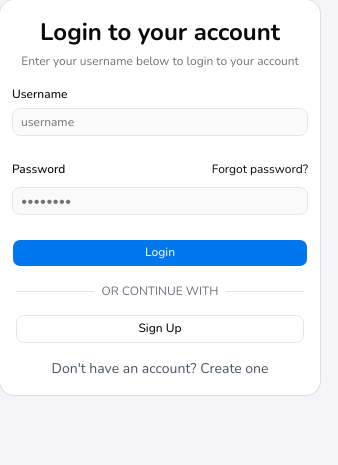
Test: LoginPage › rejects a successful response that carries no token
Type "admin01" into the field labelled "Username".
click(160, 122); type("admin01")  # box [12,108,308,136]
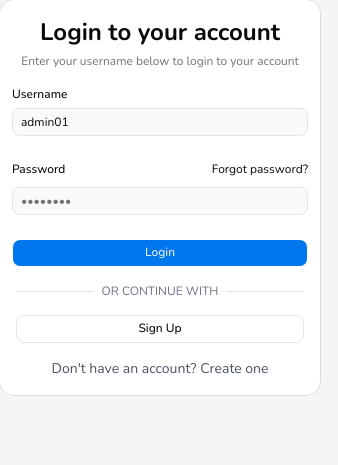
Type "secret123" into the password field labelled "Password".
click(160, 201); type("secret123")  # box [12,187,308,215]
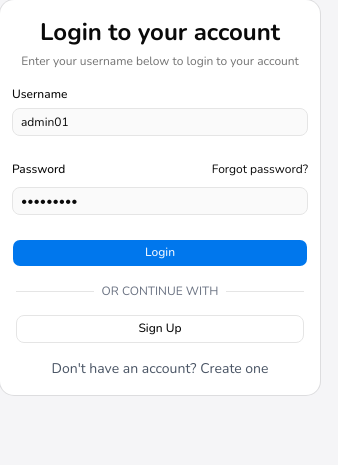
Click the button "Login".
click(160, 253)  # box [12,239,308,267]
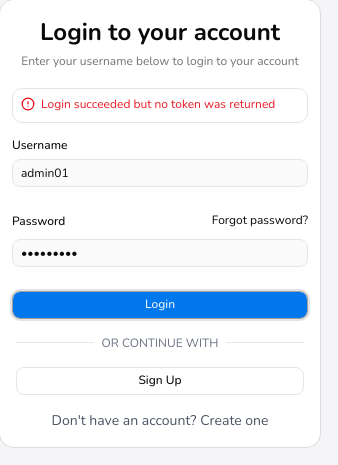
Result: the text "Login succeeded but no token was returned" is shown at [41,94,299,114]
